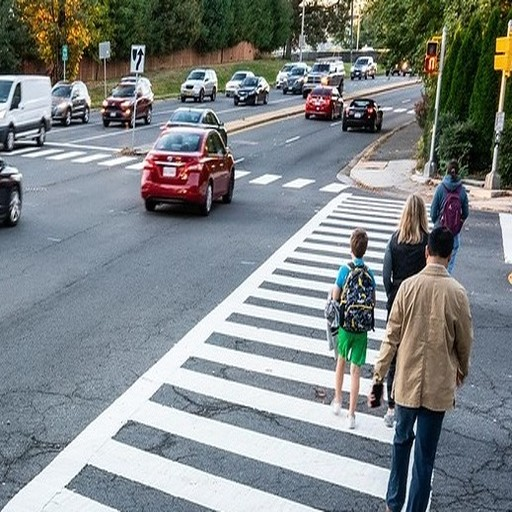car: (138, 121, 242, 215), (99, 79, 155, 129), (47, 78, 93, 126), (340, 94, 386, 134), (304, 83, 346, 124), (177, 67, 220, 105), (232, 74, 272, 106)
pedestrian: (368, 222, 479, 512), (322, 223, 378, 426), (380, 193, 431, 376), (427, 157, 472, 272)
